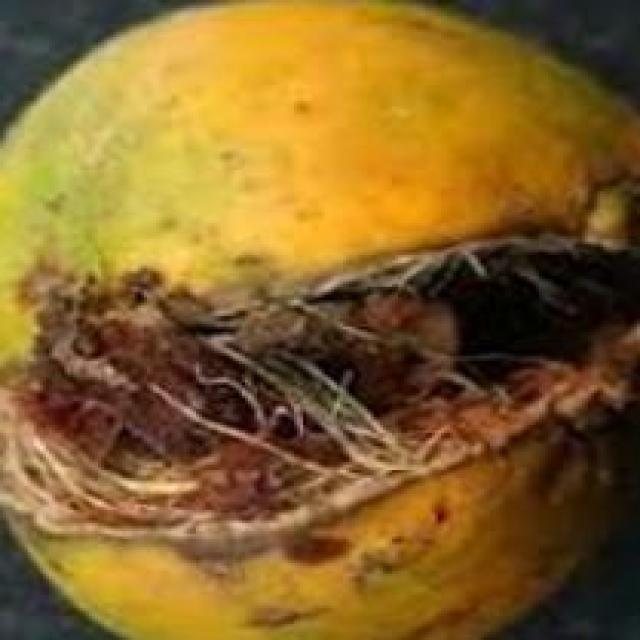damaged: (0, 3, 637, 637)
